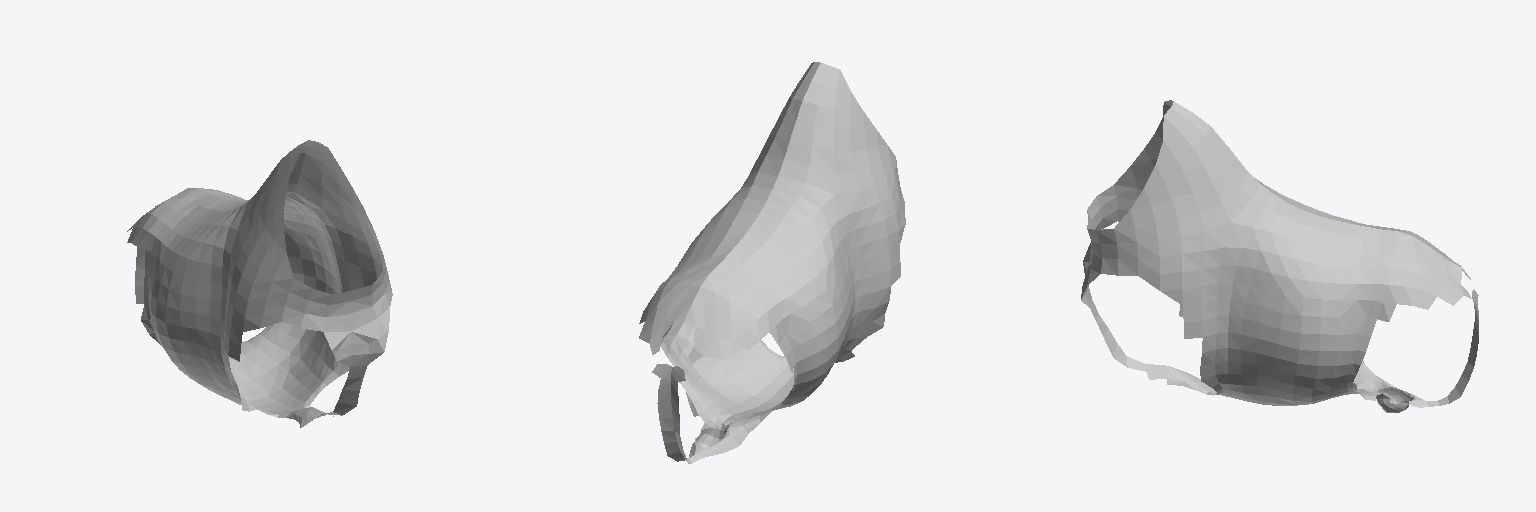
The model's file is Jcuerpo.obj.
3 views of the same model, side by side, from view 1: azimuth 30°, elevation 25°; view 2: azimuth 150°, elevation 25°; view 3: azimuth 270°, elevation 25° (orthographic).
Visible parts, largest first — view 1: Cuerpo; view 2: Cuerpo; view 3: Cuerpo.
Boxes of the visible parts, box(x1,y1,x2,y2) form: Cuerpo: box(127, 140, 392, 427); Cuerpo: box(639, 62, 905, 463); Cuerpo: box(1081, 100, 1478, 412).
Bounding box in the file's own units: 0.4361 × 0.8025 × 0.9375.